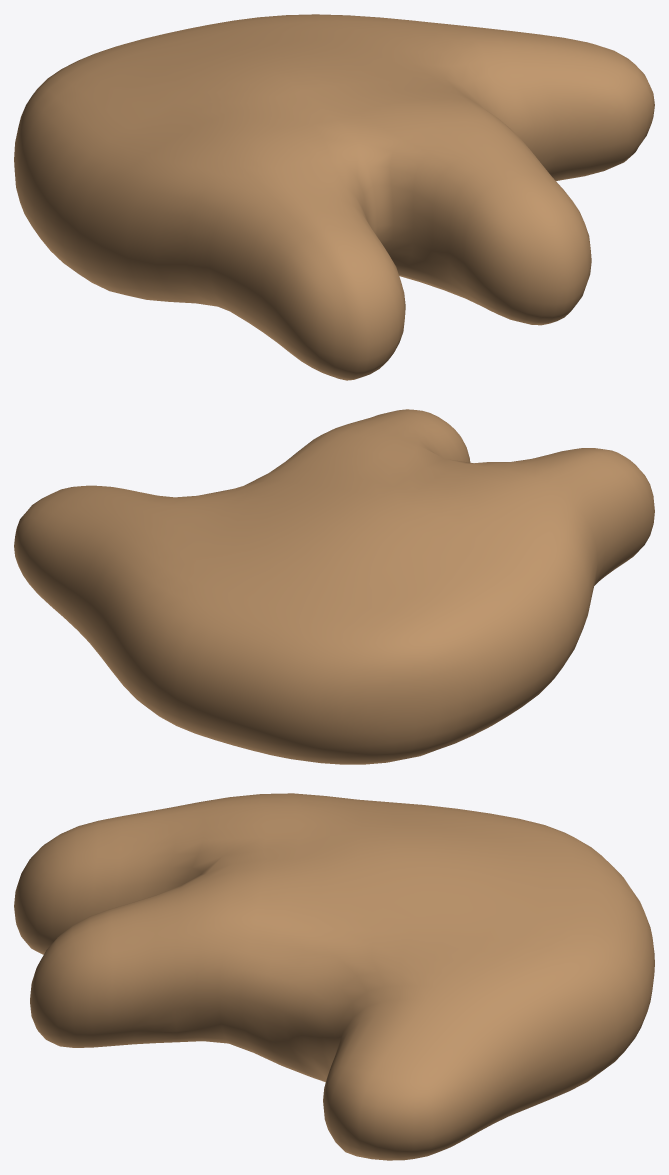
The model's file is right-hand.fbx.
3 views of the same model, one above another, from view 1: azimuth 30°, elevation 25°; view 2: azimuth 150°, elevation 25°; view 3: azimuth 270°, elevation 25° (orthographic). The views are drawn at different scales.
Visible parts, largest first — view 1: Right Hand; view 2: Right Hand; view 3: Right Hand.
Part boxes in pixels (x1,y1,x2,y2): Right Hand: (14, 14, 654, 380); Right Hand: (14, 409, 654, 764); Right Hand: (14, 793, 654, 1160).
Size of the model in its own units: 15.99 by 5.25 by 15.84.
